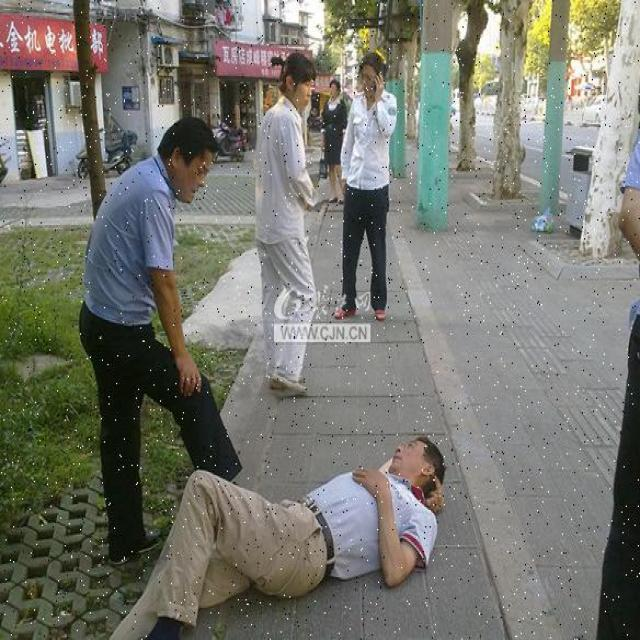fall: (112, 426, 468, 638)
